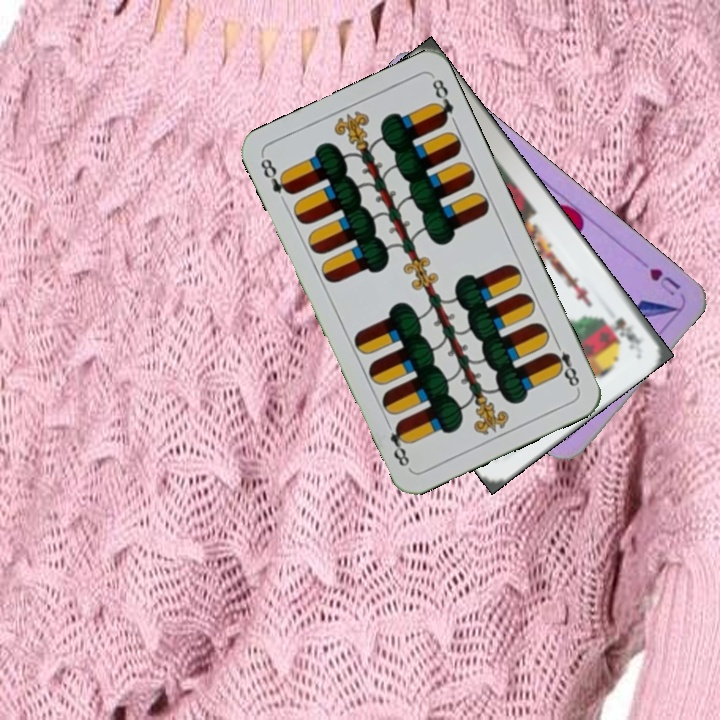E8: (546, 336, 582, 392), (256, 154, 296, 198)
HU: (645, 264, 683, 299)
SK: (610, 313, 645, 353)
